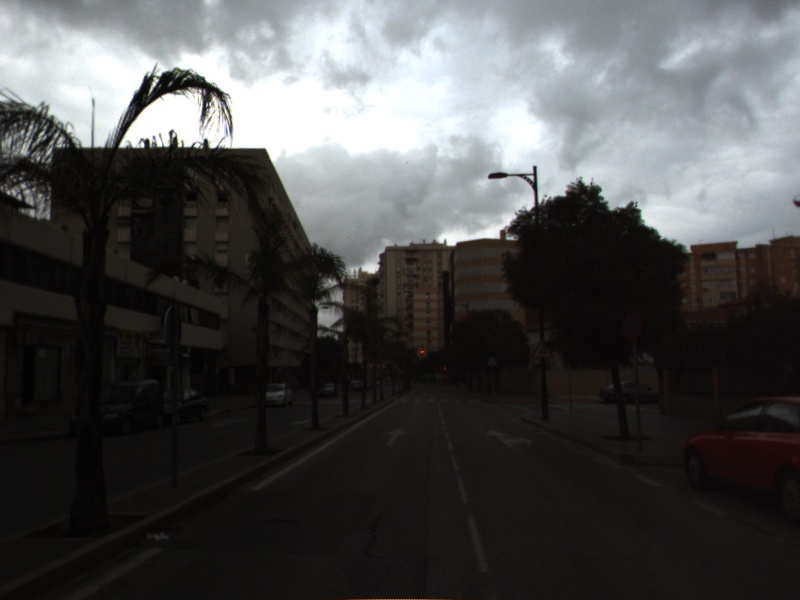STRAIGHT: (383, 426, 411, 447)
STRAIGHT_RIGHT: (483, 427, 534, 449)
